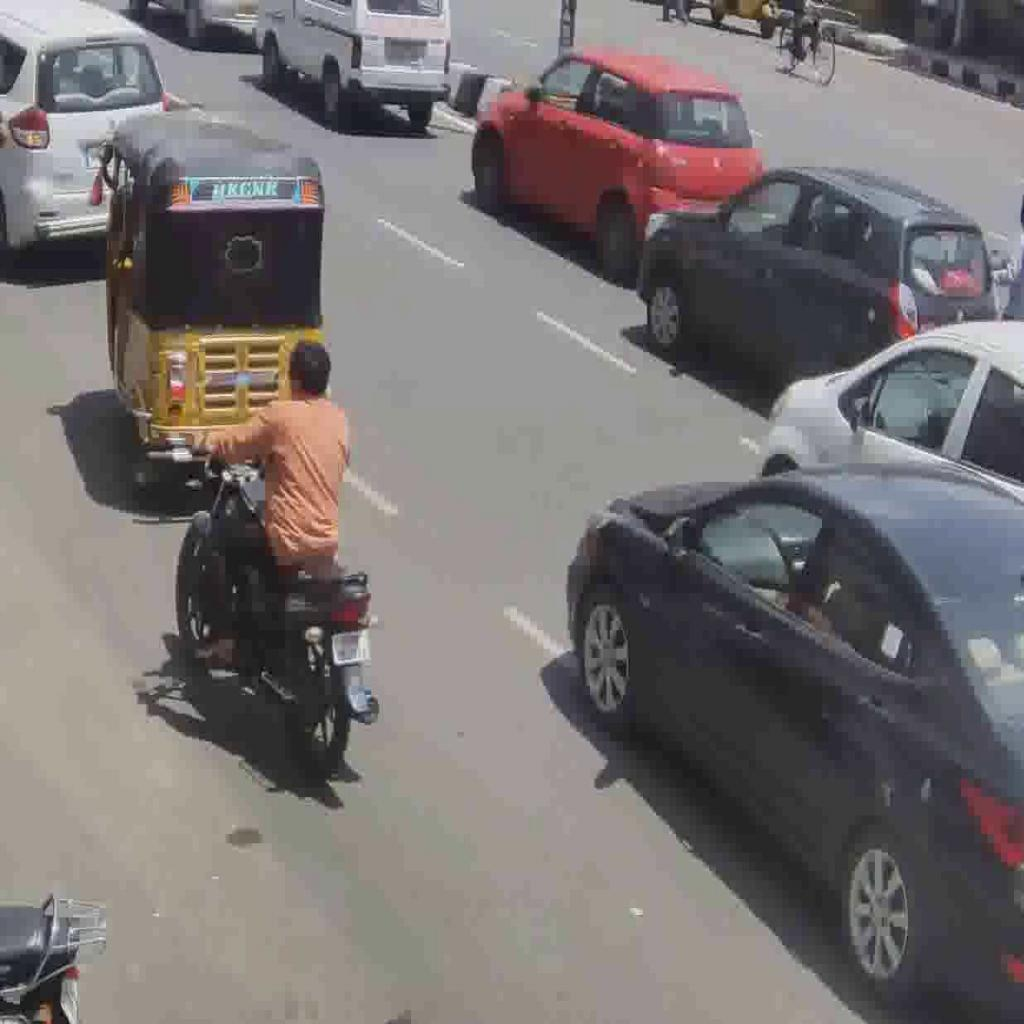helmet: (174, 425, 380, 785)
